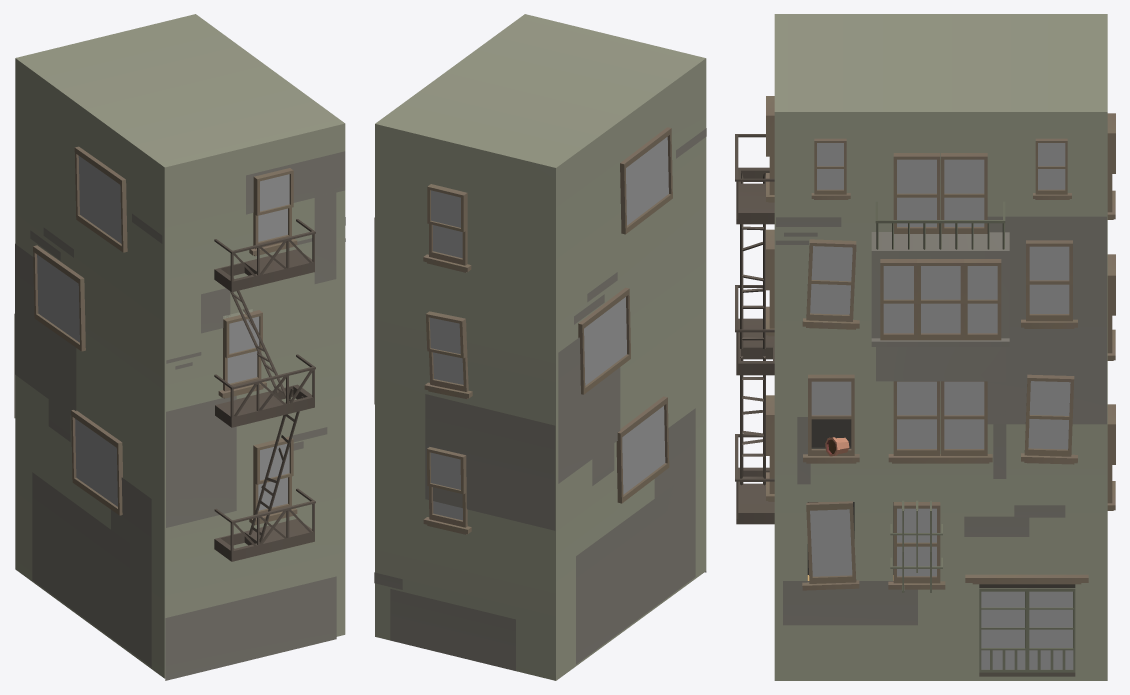
The model's file is apt_rando_green.fbx.
3 renders of one model, left to right at view 1: azimuth 30°, elevation 25°; view 2: azimuth 150°, elevation 25°; view 3: azimuth 270°, elevation 25°, orthographic. The views are drawn at different scales.
Parts seen in each view (by area): view 1: pCube355, pPlane25, pPlane27, pPlane10, pPlane28, pPlane26, pCube358, pCube359, pCube357, polySurface2518, polySurface2530, polySurface2505 (+9 smaller); view 2: pCube355, pPlane24, pPlane27, pPlane22, pPlane28, pPlane26, pCube359, pCube357, pCube358, pCube345, pCube346, pCube347 (+1 smaller); view 3: pCube355, pPlane18, pCube292, pPlane5, polySurface2185, polySurface2491, pCube272, polySurface2518, polySurface2505, polySurface2530, pCube325, pCube293 (+42 smaller).
Boxes of the visible parts, bbox=[...] form: pCube355: bbox=[15, 14, 345, 678]; pPlane25: bbox=[165, 576, 336, 680]; pPlane27: bbox=[32, 472, 129, 651]; pPlane10: bbox=[166, 396, 236, 527]; pPlane28: bbox=[15, 244, 76, 415]; pPlane26: bbox=[111, 477, 151, 666]; pCube358: bbox=[33, 245, 85, 351]; pCube359: bbox=[74, 146, 127, 252]; pCube357: bbox=[71, 410, 122, 515]; polySurface2518: bbox=[214, 219, 315, 292]; polySurface2530: bbox=[214, 354, 315, 427]; polySurface2505: bbox=[214, 488, 315, 561]; pCube355: bbox=[375, 14, 706, 680]; pPlane24: bbox=[425, 394, 555, 530]; pPlane27: bbox=[576, 485, 673, 664]; pPlane22: bbox=[390, 589, 515, 670]; pPlane28: bbox=[558, 337, 620, 483]; pPlane26: bbox=[654, 408, 695, 594]; pCube359: bbox=[620, 127, 672, 234]; pCube357: bbox=[616, 396, 669, 503]; pCube358: bbox=[578, 287, 630, 394]; pCube345: bbox=[424, 311, 472, 399]; pCube346: bbox=[423, 184, 471, 272]; pCube347: bbox=[423, 447, 471, 534]; pCube355: bbox=[774, 14, 1107, 680]; pPlane18: bbox=[987, 216, 1106, 424]; pCube292: bbox=[871, 232, 1009, 381]; pPlane5: bbox=[783, 581, 917, 625]; polySurface2185: bbox=[1027, 588, 1075, 672]; polySurface2491: bbox=[979, 588, 1027, 672]; pCube272: bbox=[806, 501, 856, 583]; polySurface2518: bbox=[735, 134, 774, 224]; polySurface2505: bbox=[735, 434, 774, 524]; polySurface2530: bbox=[735, 285, 774, 375]; pCube325: bbox=[893, 155, 940, 197]; pCube293: bbox=[917, 261, 964, 303].
Bounding box in the file's own units: 51.12 × 111 × 66.91.
2 materials, 1 textured.
